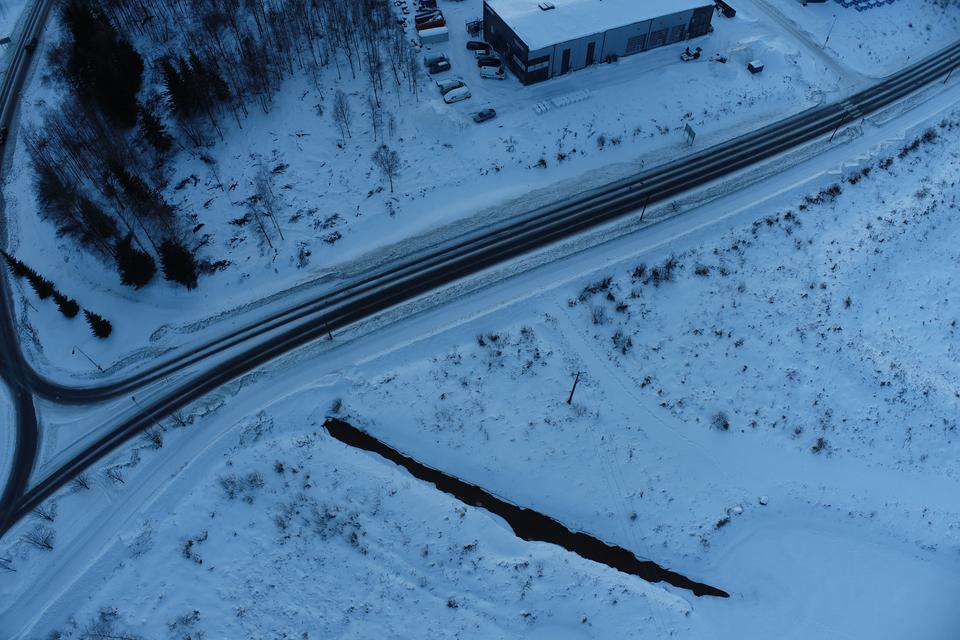intersection: (805, 44, 895, 147)
roundabout: (0, 285, 100, 569)
